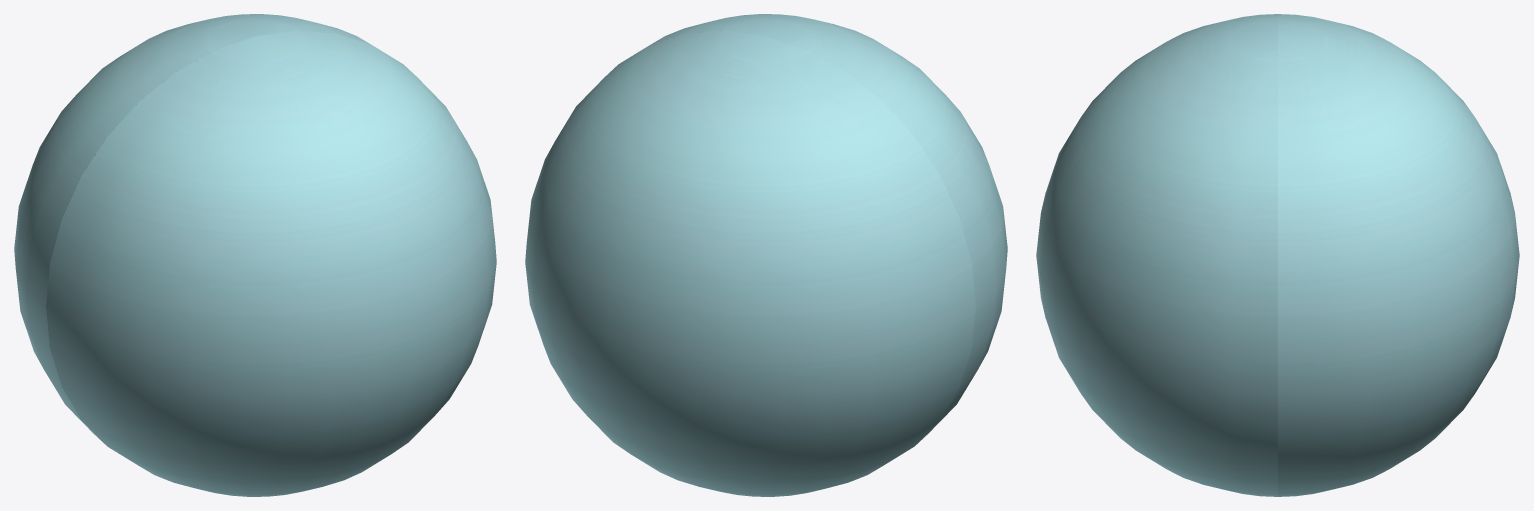
File: Uranus.glb
3 renders of one model, left to right at view 1: azimuth 30°, elevation 25°; view 2: azimuth 150°, elevation 25°; view 3: azimuth 270°, elevation 25°, orthographic.
Visible parts, largest first — view 1: Sphere.080, Sphere.011; view 2: Sphere.011, Sphere.080; view 3: Sphere.011, Sphere.080.
Boxes of the visible parts, bbox=[...] form: Sphere.080: bbox=[46, 30, 496, 496]; Sphere.011: bbox=[14, 14, 370, 443]; Sphere.011: bbox=[525, 30, 975, 496]; Sphere.080: bbox=[651, 14, 1007, 443]; Sphere.011: bbox=[1278, 14, 1519, 496]; Sphere.080: bbox=[1036, 14, 1277, 496].
Size of the model in its own units: 2 by 2 by 2.
5 materials, 5 textured.
